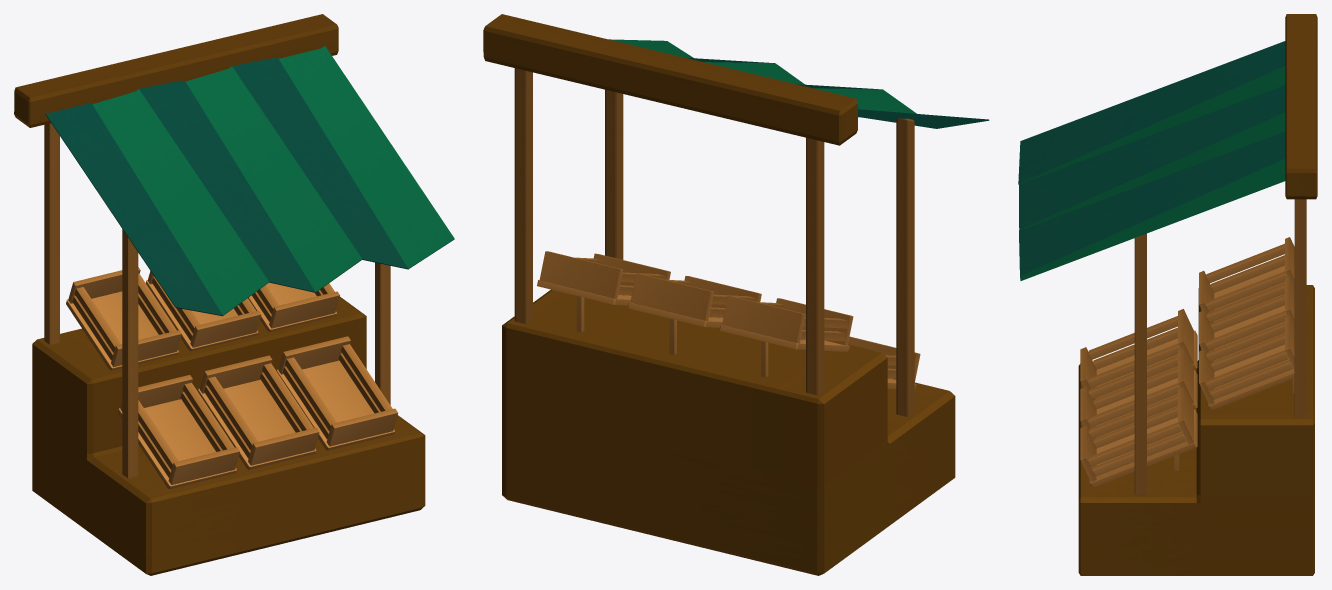
Rendered from Barraquinha.fbx.
3 views of the same model, side by side, from view 1: azimuth 30°, elevation 25°; view 2: azimuth 150°, elevation 25°; view 3: azimuth 270°, elevation 25° (orthographic). The views are drawn at different scales.
Parts seen in each view (by area): view 1: Cube, Cube.007; view 2: Cube, Cube.007; view 3: Cube, Cube.007.
Boxes of the visible parts, x1=… form: Cube: x1=14, y1=14, x2=454, y2=575; Cube.007: x1=66, y1=267, x2=397, y2=488; Cube: x1=483, y1=14, x2=989, y2=575; Cube.007: x1=537, y1=251, x2=920, y2=389; Cube: x1=1018, y1=14, x2=1317, y2=575; Cube.007: x1=1080, y1=237, x2=1294, y2=486.
Size of the model in its own units: 222 by 280 by 182.
Materials: 3 (3 with a texture image).
